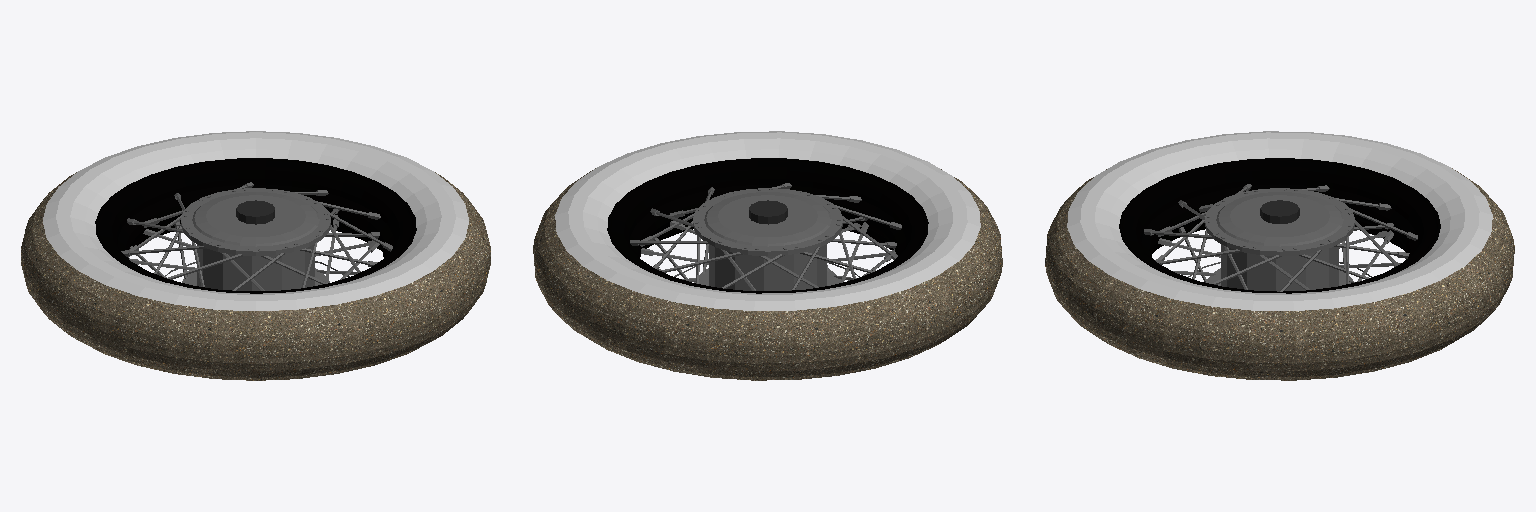
3 views of the same model, side by side, from view 1: azimuth 30°, elevation 25°; view 2: azimuth 150°, elevation 25°; view 3: azimuth 270°, elevation 25° (orthographic).
Parts seen in each view (by area): view 1: Cylinder.001_Material.004_0; view 2: Cylinder.001_Material.004_0; view 3: Cylinder.001_Material.004_0.
Part boxes in pixels (x1,y1,x2,y2): Cylinder.001_Material.004_0: (21,131,490,380); Cylinder.001_Material.004_0: (533,131,1002,380); Cylinder.001_Material.004_0: (1045,131,1514,380).
Size of the model in its own units: 0.6747 by 0.1502 by 0.6747.
5 materials, 1 textured.